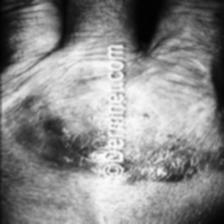Toxin: (12, 95, 102, 171), (125, 127, 224, 187)
